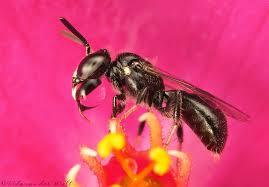Braunsapis: (56, 10, 249, 169)
